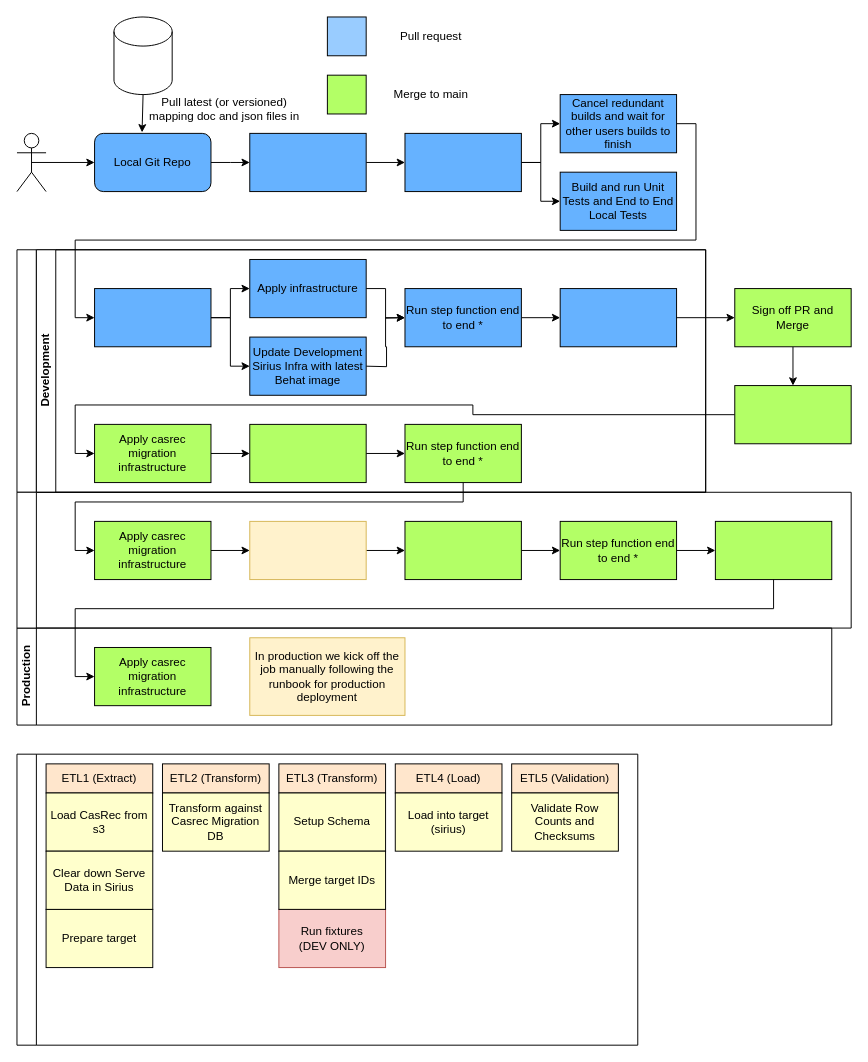
Some shapes in this 868 by 1062 pixel diagram are drawn without their labels. Here are the shapes that lost their labels. From the top down, the box of each, then its label:
(113, 16, 172, 95): S3
(16, 132, 46, 192): Actor
(249, 132, 366, 192): Push to GitHub
(404, 132, 521, 192): Create PR
(94, 288, 211, 347): Plan infrastructure
(559, 288, 677, 347): Run our tagged Behat tests against Dev
(16, 249, 706, 492): Environment
(734, 385, 851, 444): Build and unit test against main
(249, 423, 366, 483): Reset Sirius (reset api, membrane, load fixtures, elasticache job)
(249, 520, 366, 580): Approval Stage to reset PreProd Sirius
(16, 491, 851, 628): PreProduction
(404, 520, 521, 580): Kick off using API and wait for jenkins restore job
(714, 520, 832, 580): Run full behat tests end to end
(16, 753, 638, 1045): * Step Function Steps
